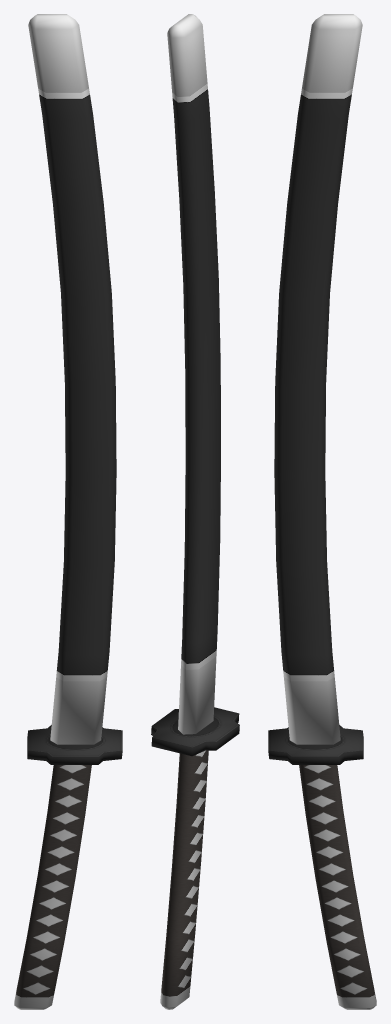
The model's file is katana_prototype2.fbx.
3 renders of one model, left to right at view 1: azimuth 90°, elevation 25°; view 2: azimuth 150°, elevation 25°; view 3: azimuth 270°, elevation 25°, orthographic.
Visible parts, largest first — view 1: saya, katana; view 2: saya, katana; view 3: saya, katana.
Boxes of the visible parts, box(x1,y1,x2,y2) form: saya: box(28, 14, 116, 744); katana: box(14, 725, 122, 1009); saya: box(167, 14, 220, 734); katana: box(151, 707, 239, 1009); saya: box(274, 14, 362, 744); katana: box(268, 725, 376, 1009).
Bounding box in the file's own units: 8 × 115 × 11.41.
Materials: 2 (2 with a texture image).
